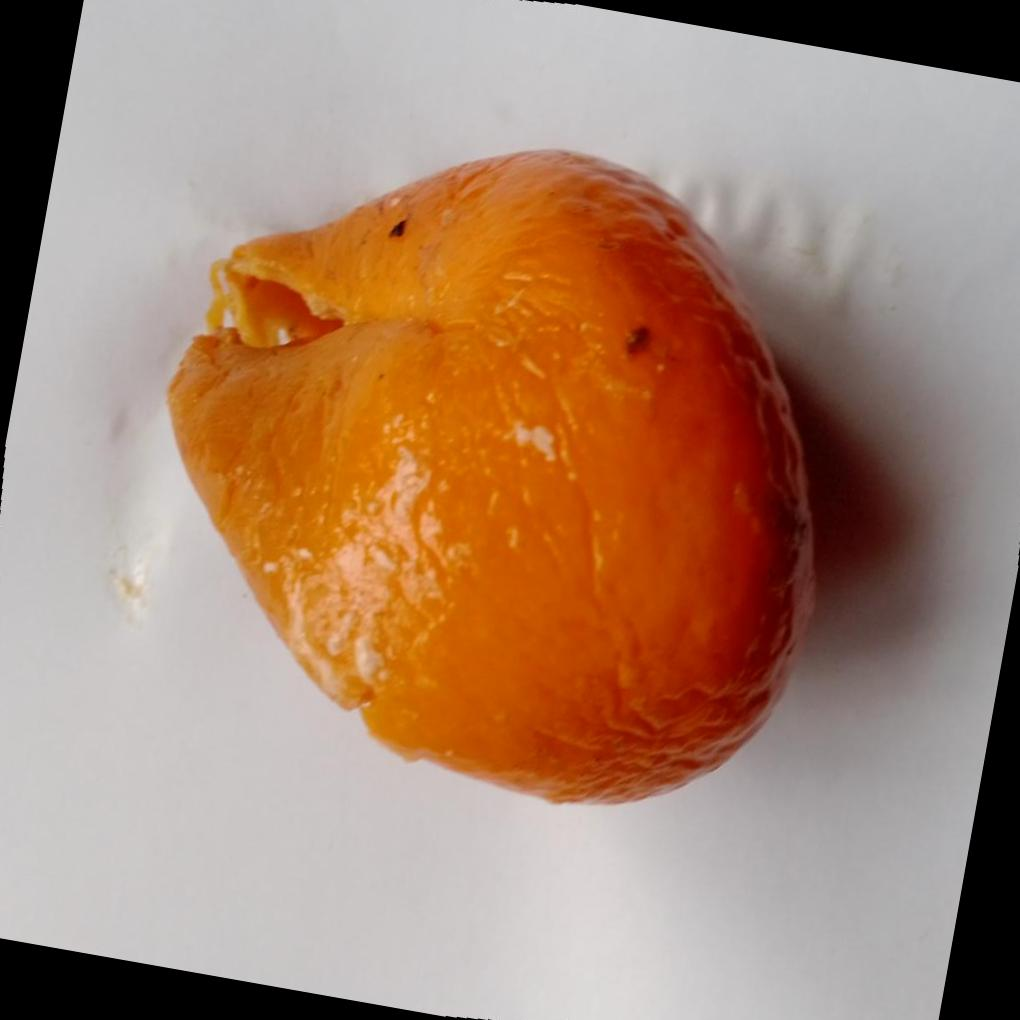FreshOrange: (159, 146, 813, 806)
